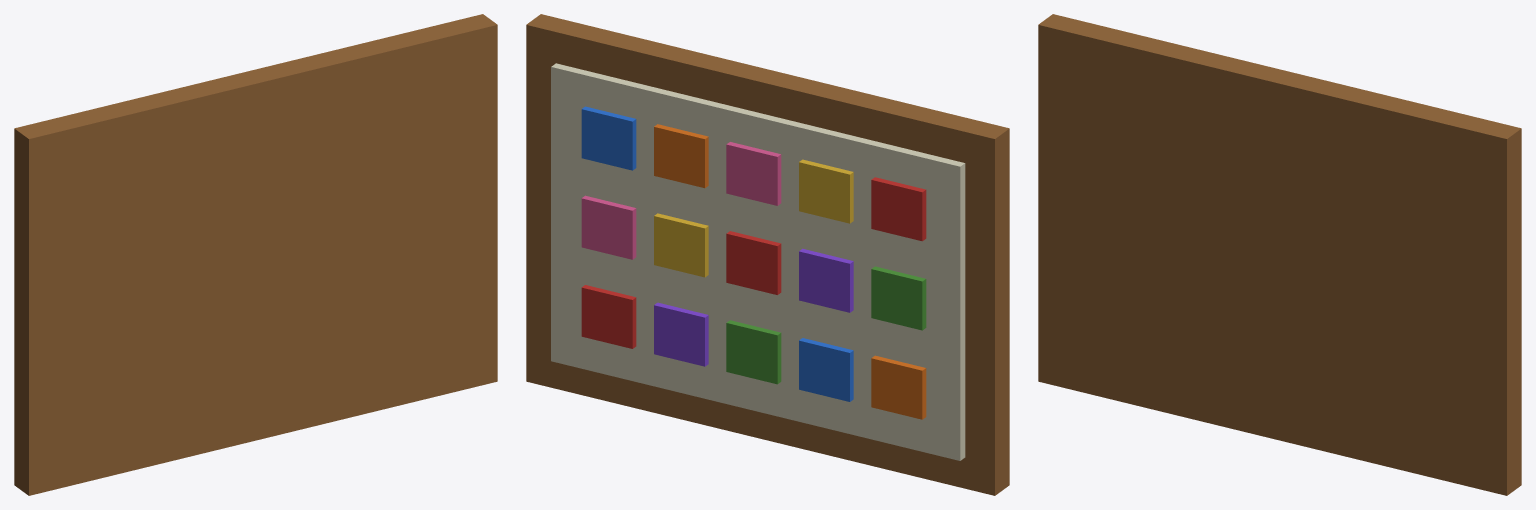
The model's file is th-poster-numbers.glb.
3 renders of one model, left to right at view 1: azimuth 30°, elevation 25°; view 2: azimuth 150°, elevation 25°; view 3: azimuth 330°, elevation 25°, orthographic.
Visible parts, largest first — view 1: box-prop; view 2: box-prop; view 3: box-prop.
Part boxes in pixels (bbox=[...]): box-prop: bbox=[14, 14, 497, 495]; box-prop: bbox=[526, 14, 1009, 495]; box-prop: bbox=[1038, 14, 1521, 495].
Size of the model in its own units: 1.1 by 0.8 by 0.095.
